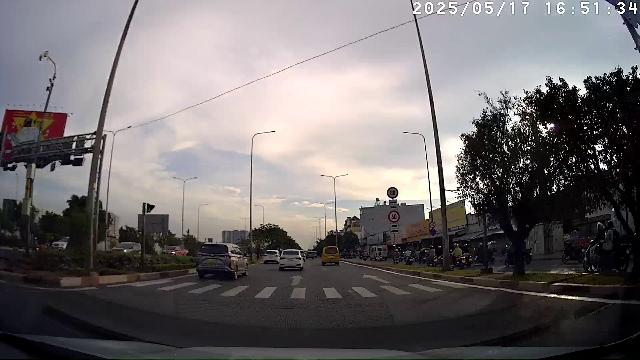127-toc-do-toi-da-60: (388, 211, 400, 223)
127-toc-do-toi-da-80: (387, 188, 399, 198)
